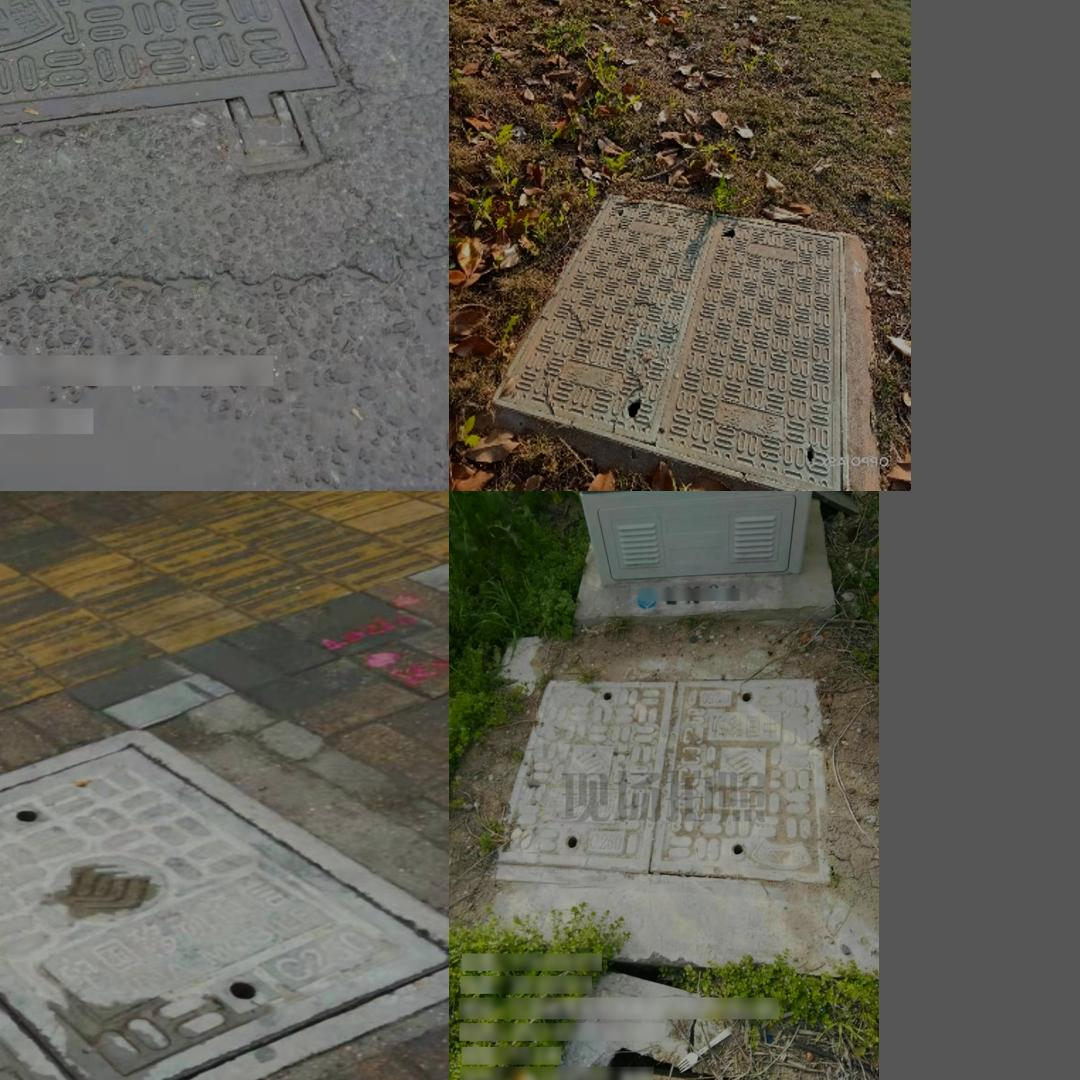good: (0, 730, 449, 1080), (488, 190, 850, 491), (491, 677, 831, 889), (0, 0, 320, 127)
